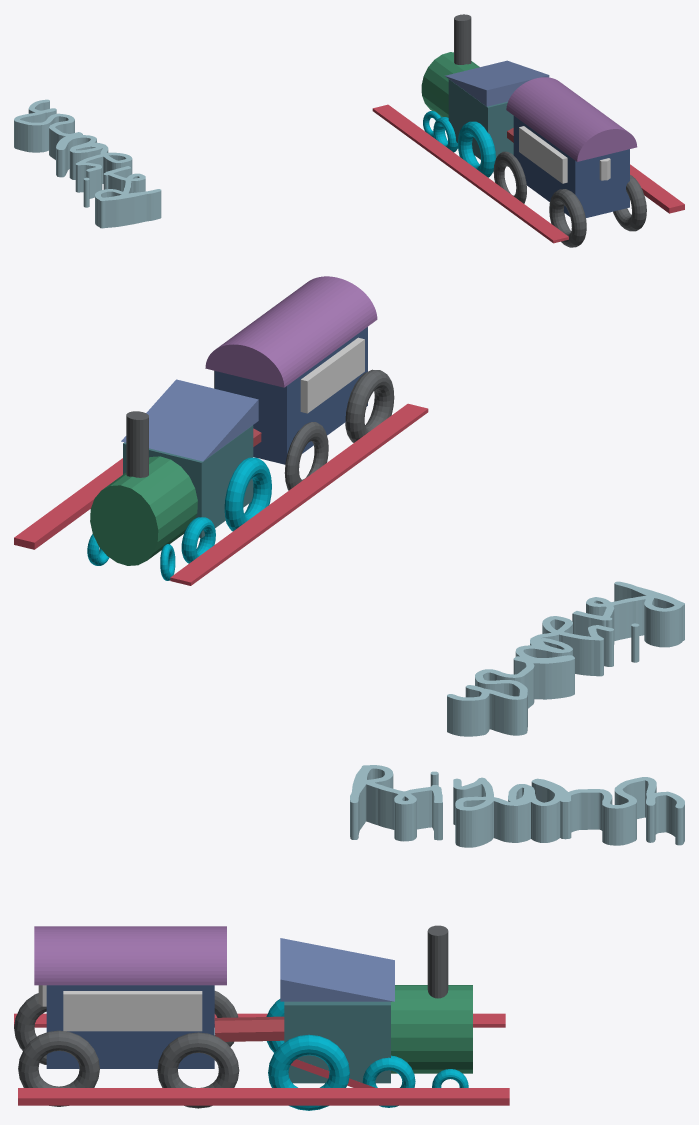
File: Powerful Jofo-Leelo (1).glb
3 renders of one model, top to bottom at view 1: azimuth 30°, elevation 25°; view 2: azimuth 150°, elevation 25°; view 3: azimuth 270°, elevation 25°, orthographic. The views are drawn at different scales.
Parts seen in each view (by area): view 1: Mesh_Mesh_head_geo.001_lambert2SG.001; view 2: Mesh_Mesh_head_geo.001_lambert2SG.001; view 3: Mesh_Mesh_head_geo.001_lambert2SG.001.
Boxes of the visible parts, <box> form: Mesh_Mesh_head_geo.001_lambert2SG.001: <box>14,14,684,247</box>; Mesh_Mesh_head_geo.001_lambert2SG.001: <box>14,276,684,736</box>; Mesh_Mesh_head_geo.001_lambert2SG.001: <box>14,765,684,1110</box>.
Bounding box in the file's own units: 175 × 42.5 × 164.
